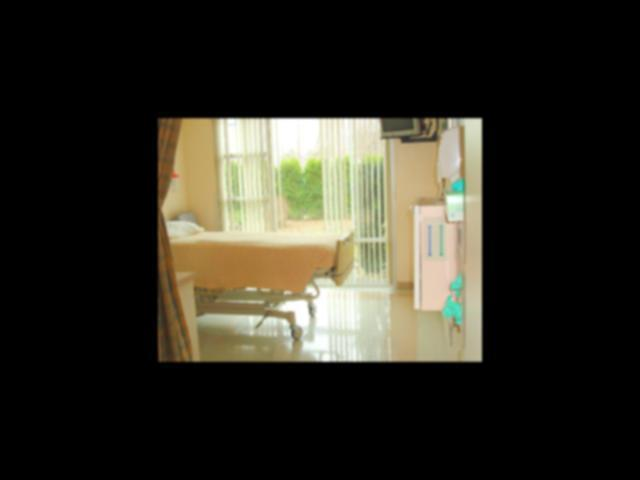Electrodomestico: (413, 202, 454, 312)
